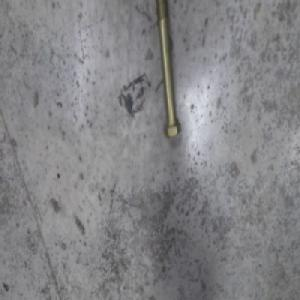Bolt: (153, 3, 180, 142)
